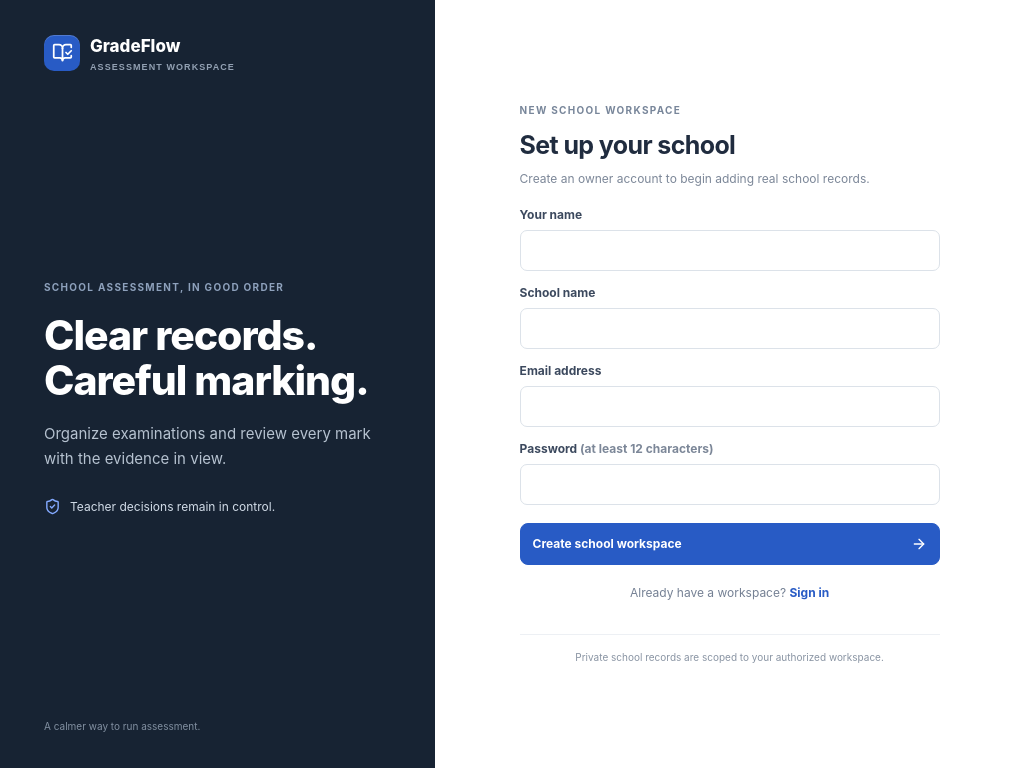
Scenario: GradeFlow authentication forms › requires a school name and a 12-character password before account registration
This screenshot has width=1024, height=768.
In the field labelled "Your name": (730, 250) top-left (520, 230), bottom-right (940, 271), type "Test Owner"
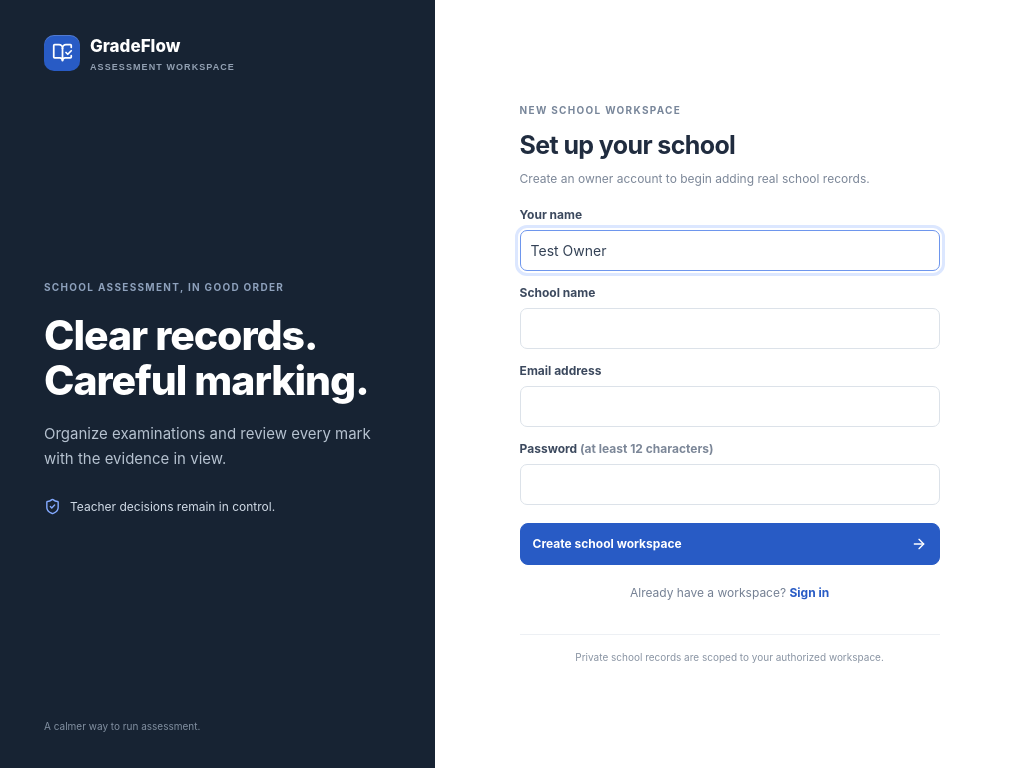
In the field labelled "Email address": (730, 406) top-left (520, 386), bottom-right (940, 427), type "owner@school.example"
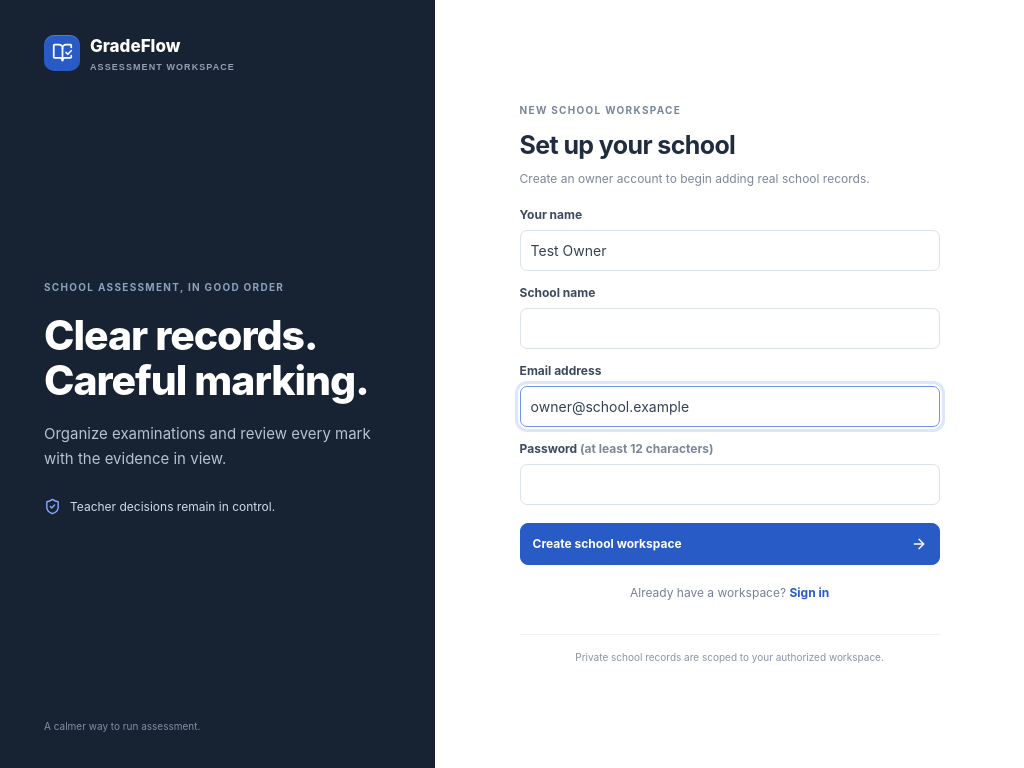
In the password field labelled "Password (at least 12 characters)": (730, 484) top-left (520, 464), bottom-right (940, 505), type "short"
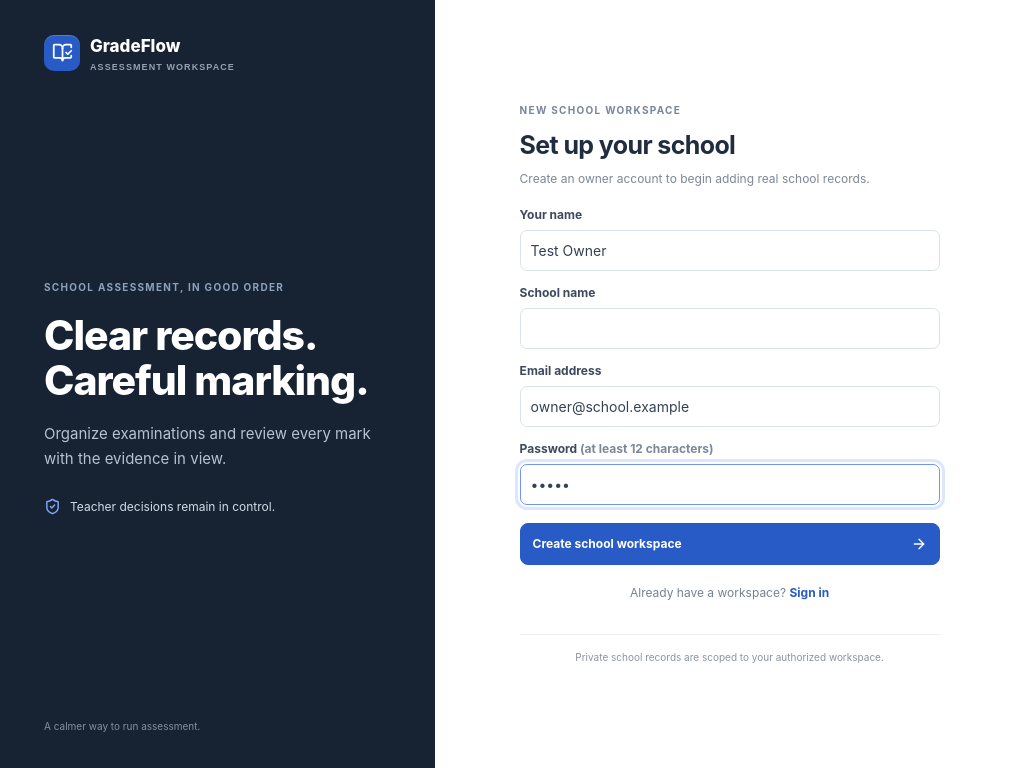
Click the button "Create school workspace": (607, 543) top-left (520, 523), bottom-right (940, 565)
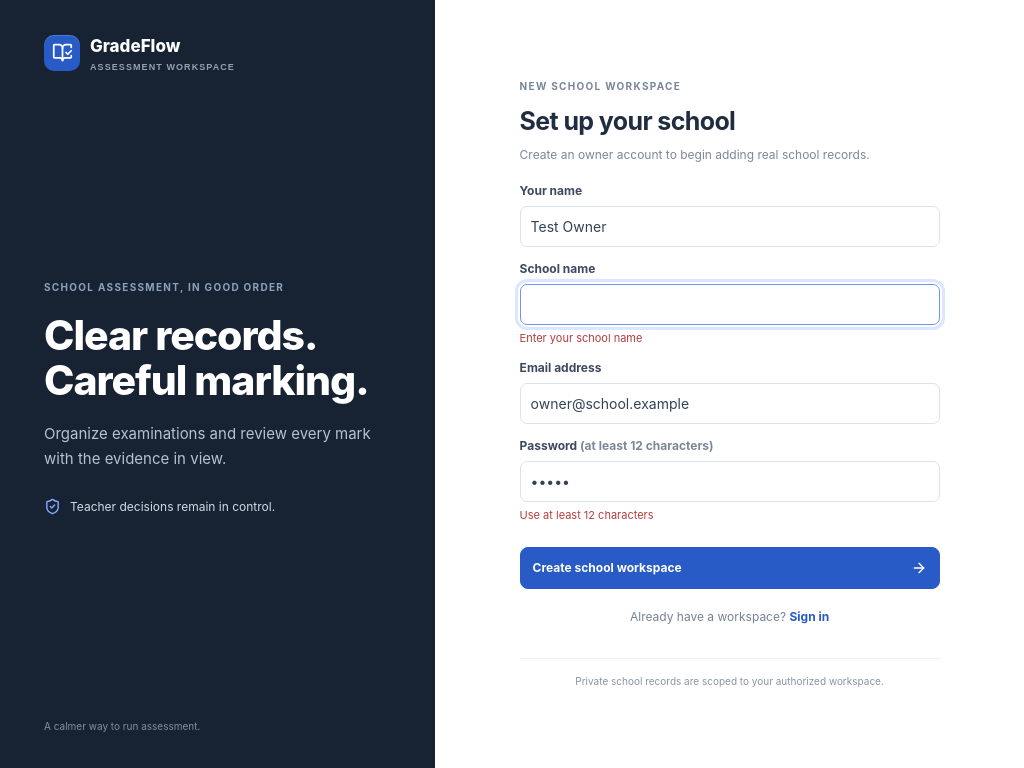
Expected: the text "Enter your school name" is shown, top-left (520, 331), bottom-right (642, 345)
Expected: the text "Use at least 12 characters" is shown, top-left (520, 508), bottom-right (654, 522)
